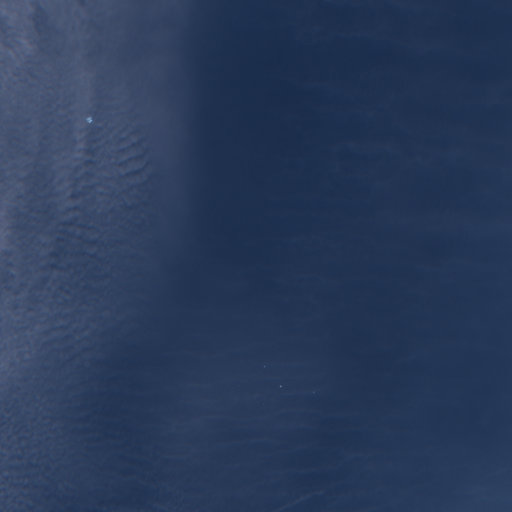Iceberg: (86, 117, 92, 122), (264, 365, 265, 367), (280, 385, 281, 386), (313, 391, 314, 392)
